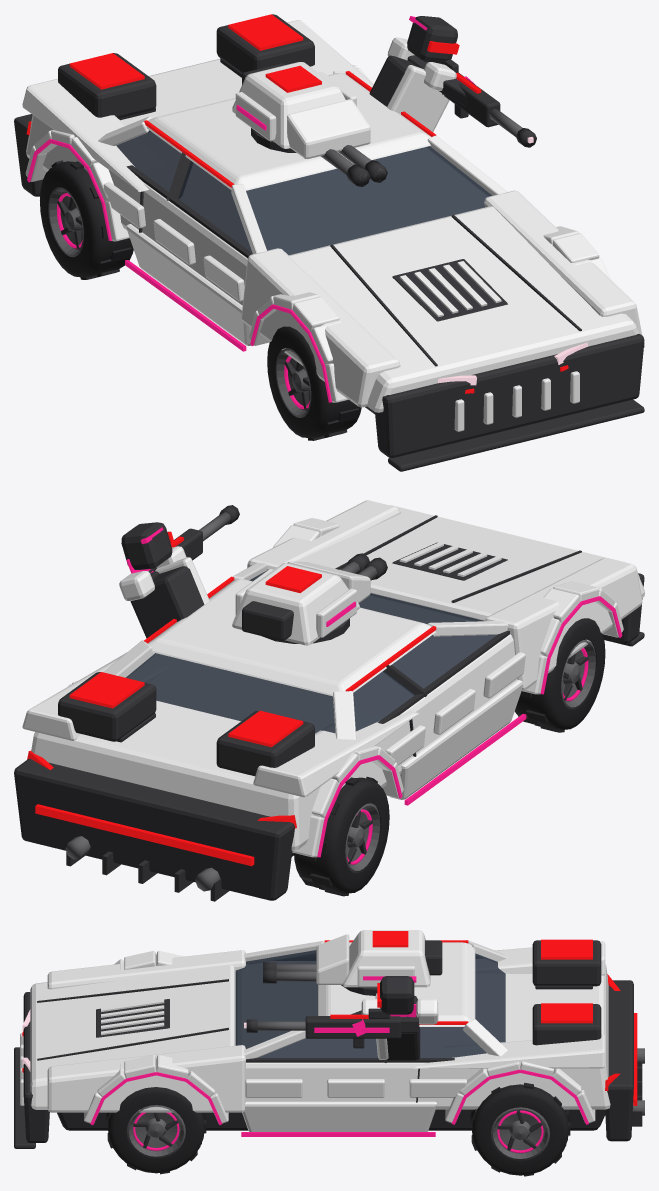
File: gunner_hero.glb
3 renders of one model, top to bottom at view 1: azimuth 30°, elevation 25°; view 2: azimuth 150°, elevation 25°; view 3: azimuth 270°, elevation 25°, orthographic. The views are drawn at different scales.
Visible parts, largest first — view 1: gunner_body, turret_mesh, wheel_RL_mesh, wheel_FL_mesh; view 2: gunner_body, turret_mesh, wheel_RL_mesh, wheel_FL_mesh; view 3: gunner_body, turret_mesh, wheel_RR_mesh, wheel_FR_mesh.
Boxes of the visible parts, x1,y1,x2,y2 form: gunner_body: (14,14,644,471); turret_mesh: (232,62,387,186); wheel_RL_mesh: (40,160,133,279); wheel_FL_mesh: (267,326,361,440); gunner_body: (14,500,644,901); turret_mesh: (232,553,387,645); wheel_RL_mesh: (294,776,389,896); wheel_FL_mesh: (515,618,605,732); gunner_body: (14,939,644,1148); turret_mesh: (263,930,442,995); wheel_RR_mesh: (470,1082,570,1176); wheel_FR_mesh: (106,1087,206,1174).
Size of the model in its own units: 2.15 by 1.6 by 4.61.
Materials: 6 (1 with a texture image).
